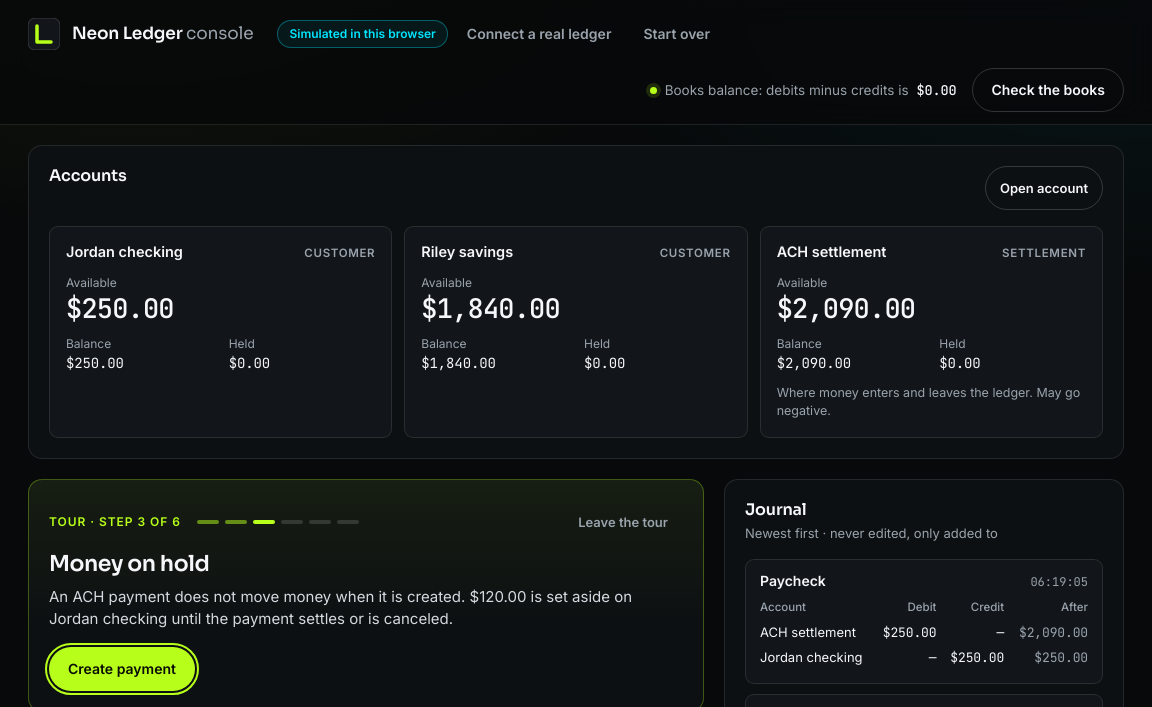
Test: the tour › runs all six steps against the ledger and ends with consistent books
The image size is (1152, 707).
Earlier steps of the test are not shown.
Later steps or results of the test are not shown.
Click the button "Create payment": (122, 669) x1=49 y1=647 x2=195 y2=691
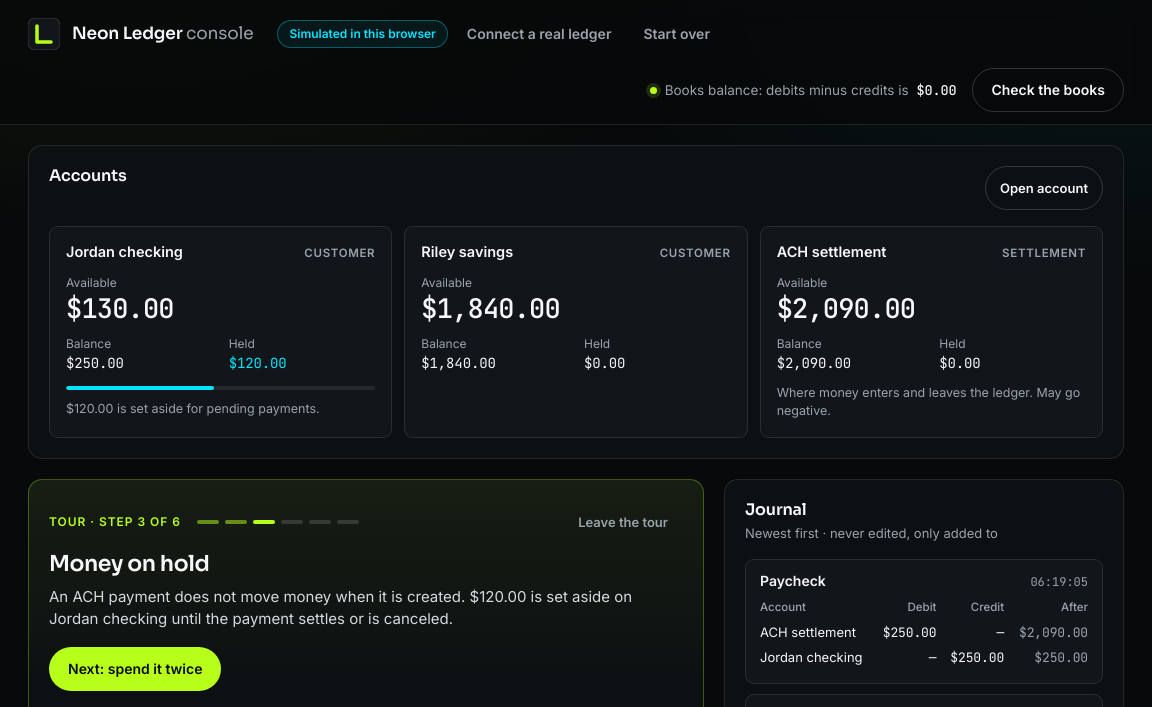
Expected: the text "$130.00" is shown, x1=66 y1=290 x2=174 y2=326
Click the button "Next: spend it twice": (135, 669) x1=49 y1=647 x2=222 y2=691
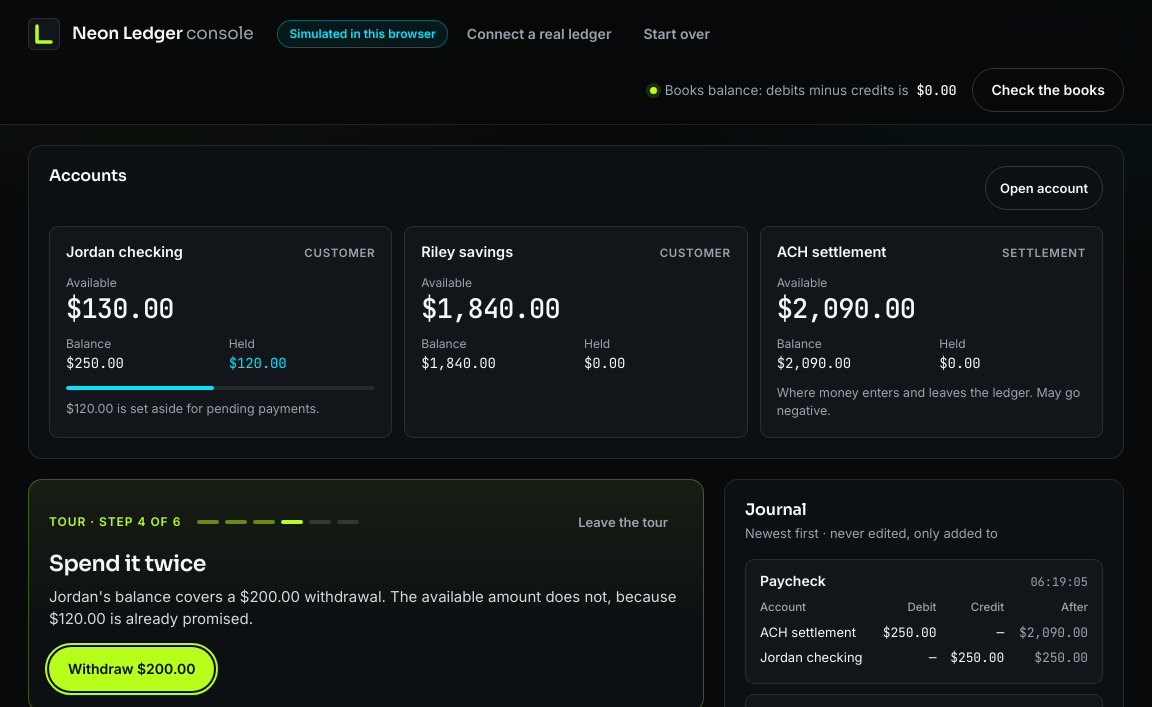
Click the button "Withdraw $200.00": (132, 669) x1=49 y1=647 x2=214 y2=691
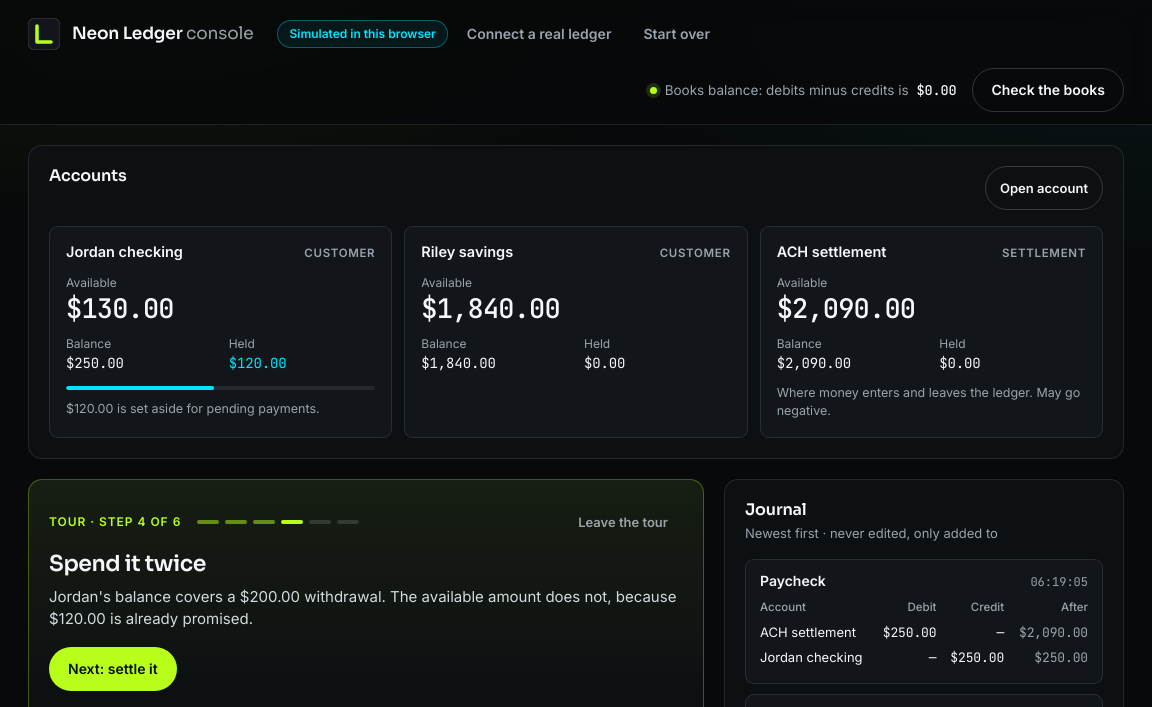
Click the button "Next: settle it": (113, 669) x1=49 y1=647 x2=177 y2=691
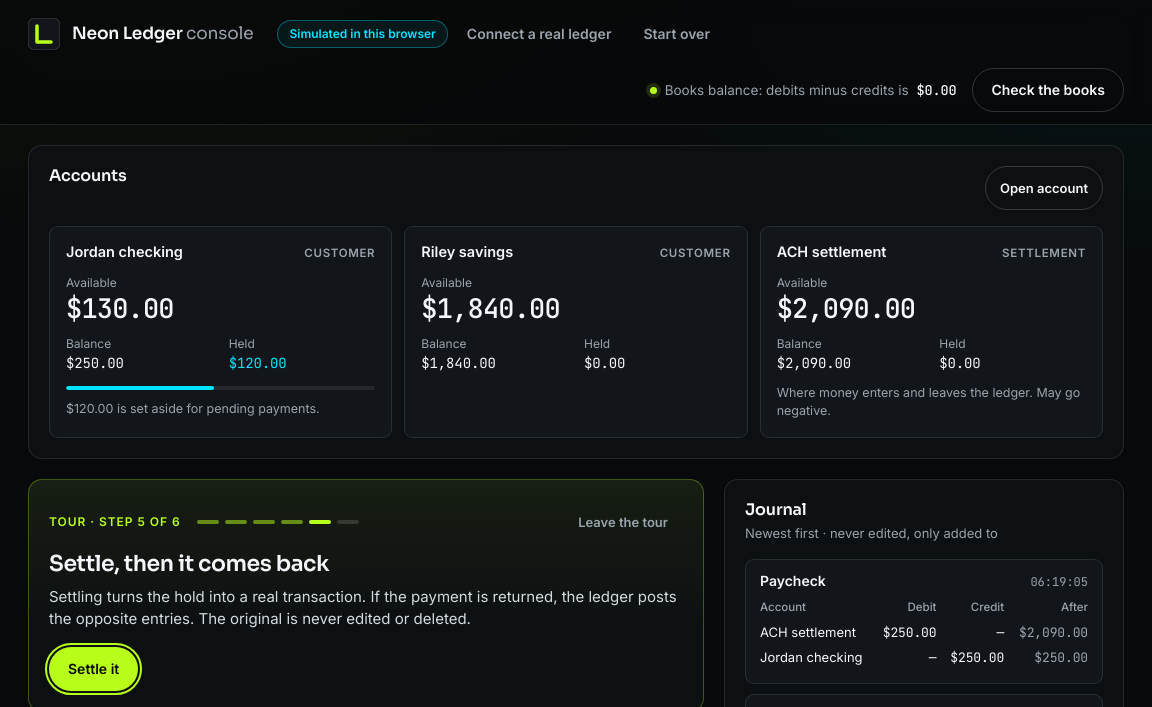
Click the button "Settle it": (94, 669) x1=49 y1=647 x2=138 y2=691
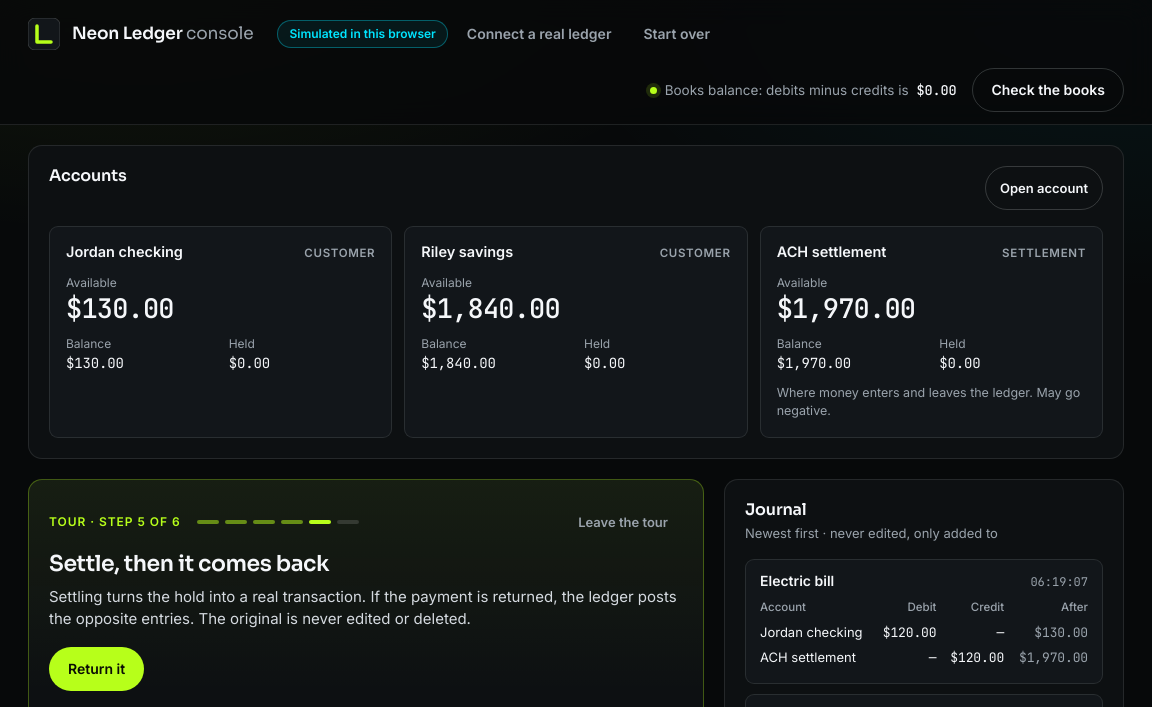
Expected: the text "Where to look" does not show "reversal"
Click the button "Return it": (97, 669) x1=49 y1=647 x2=144 y2=691
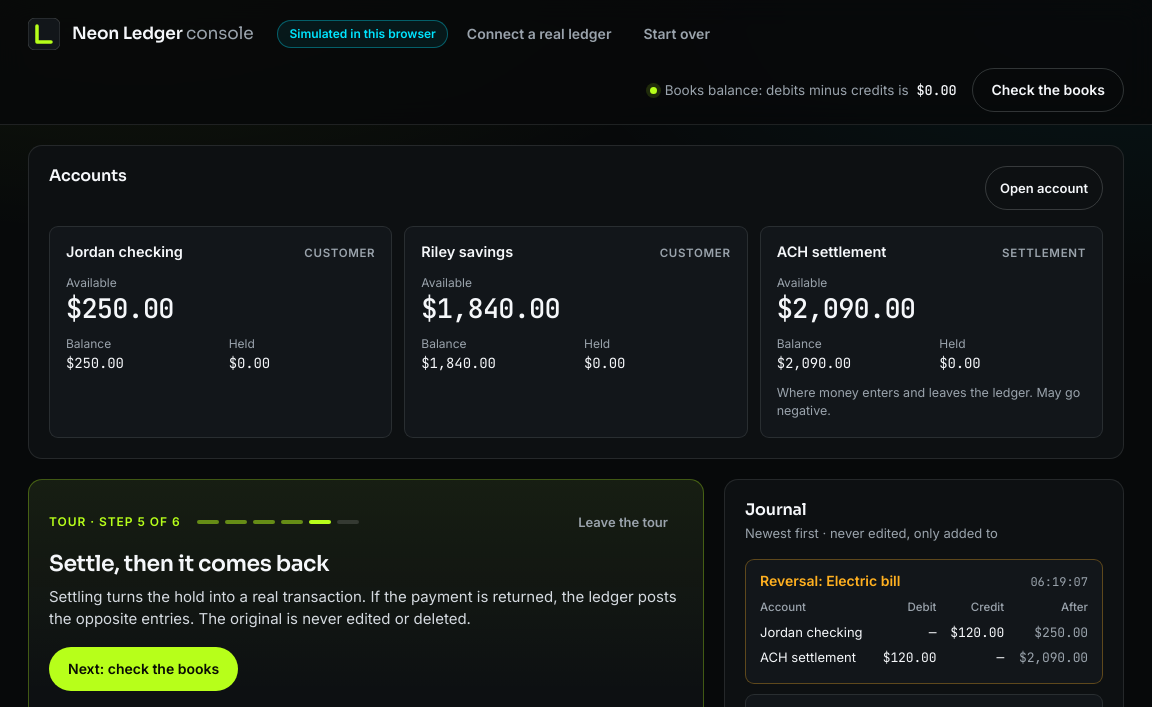
Expected: the heading "Reversal: Electric bill" is shown, x1=760 y1=572 x2=900 y2=591
